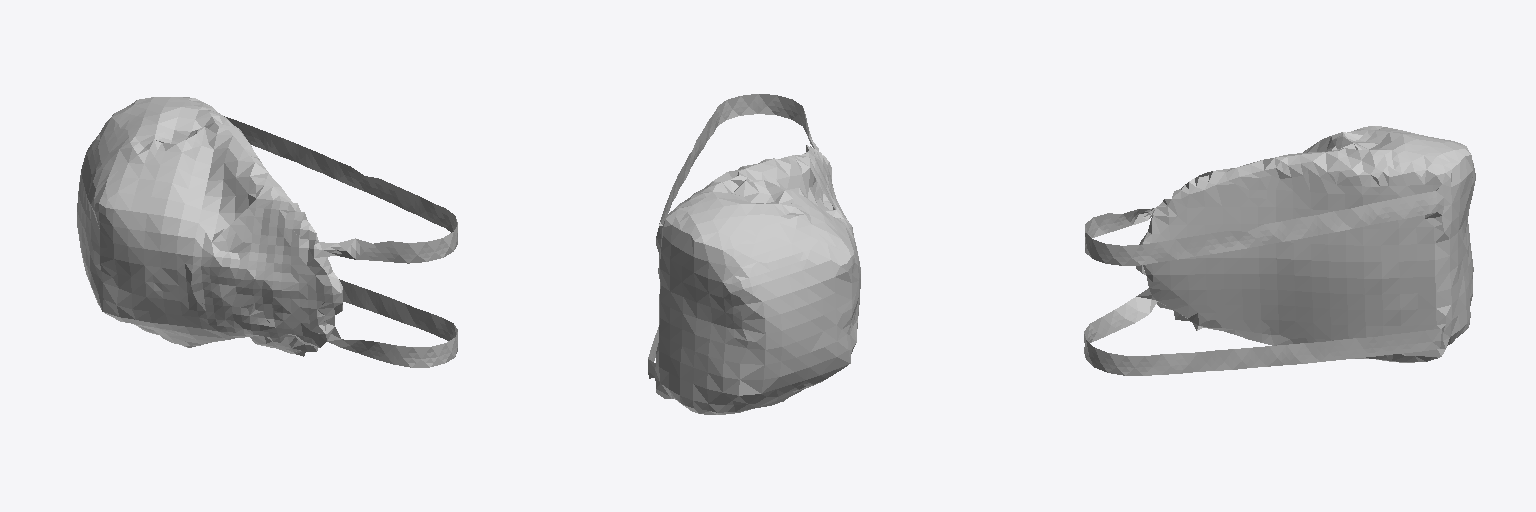
The model's file is ts_backpack_resampled.obj.
3 renders of one model, left to right at view 1: azimuth 30°, elevation 25°; view 2: azimuth 150°, elevation 25°; view 3: azimuth 270°, elevation 25°, orthographic.
Parts seen in each view (by area): view 1: ts_backpack_resampled; view 2: ts_backpack_resampled; view 3: ts_backpack_resampled.
Part boxes in pixels (x1,y1,x2,y2): ts_backpack_resampled: (77,97,457,367); ts_backpack_resampled: (648,94,860,414); ts_backpack_resampled: (1084,126,1475,375).
Size of the model in its own units: 0.363 by 0.3071 by 0.51.